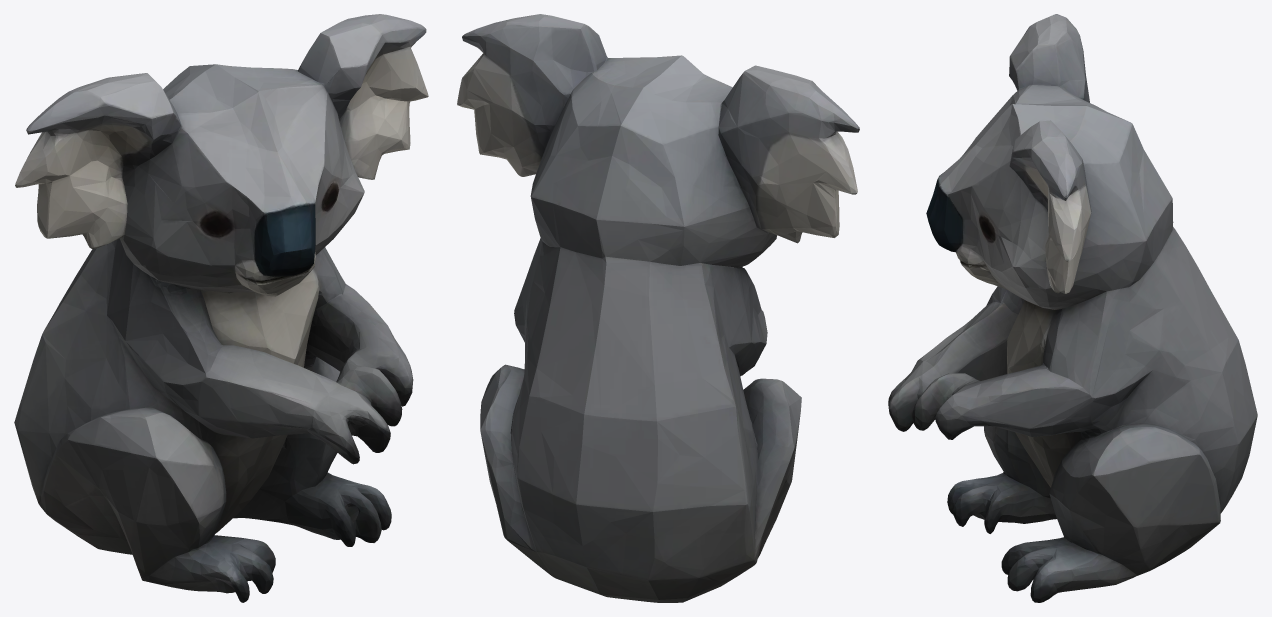
File: koala.glb
The picture shows the model from 3 angles, left to right: view 1: azimuth 30°, elevation 25°; view 2: azimuth 150°, elevation 25°; view 3: azimuth 270°, elevation 25°; orthographic projection. The views are drawn at different scales.
Visible parts, largest first — view 1: world; view 2: world; view 3: world.
Part boxes in pixels (x1,y1,x2,y2): world: [14, 14, 428, 602]; world: [457, 14, 859, 602]; world: [888, 14, 1257, 602].
Size of the model in its own units: 0.8509 by 0.9988 by 0.7287.
Materials: 1 (1 with a texture image).
